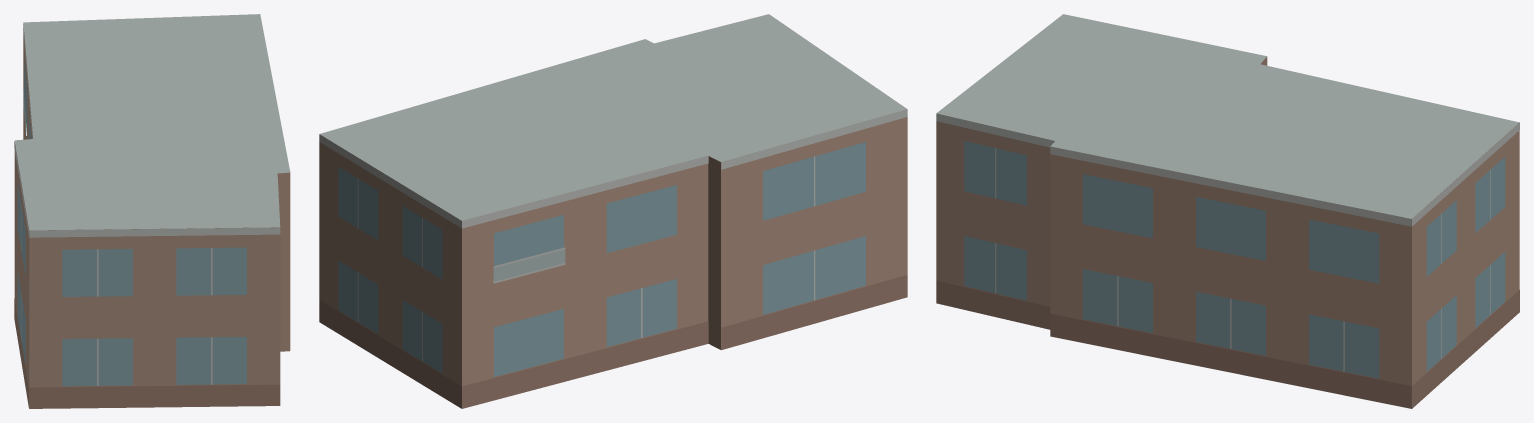
The model's file is survey-upis-32886616.glb.
3 renders of one model, left to right at view 1: azimuth 30°, elevation 25°; view 2: azimuth 150°, elevation 25°; view 3: azimuth 270°, elevation 25°, orthographic. The views are drawn at different scales.
Parts seen in each view (by area): view 1: survey-upis-32886616.tmp; view 2: survey-upis-32886616.tmp; view 3: survey-upis-32886616.tmp.
Boxes of the visible parts, <box> form: survey-upis-32886616.tmp: <box>14,14,290,408</box>; survey-upis-32886616.tmp: <box>319,14,907,408</box>; survey-upis-32886616.tmp: <box>936,14,1519,408</box>.
Bounding box in the file's own units: 13.9 × 6 × 16.72.
